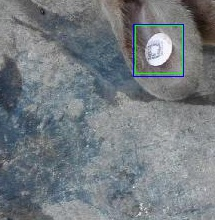text: (135, 25, 182, 73)
